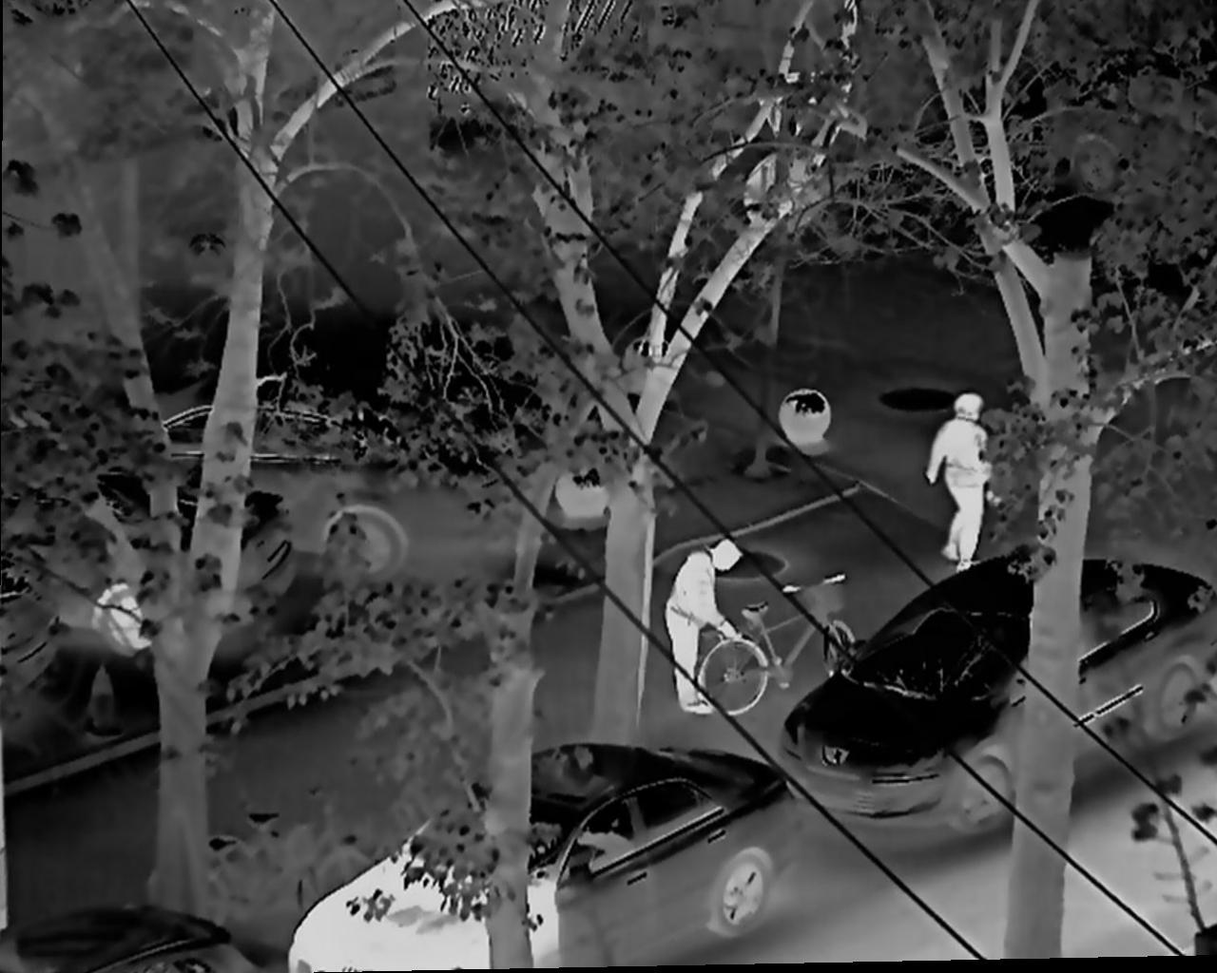person: (665, 537, 743, 715), (923, 391, 992, 572)
